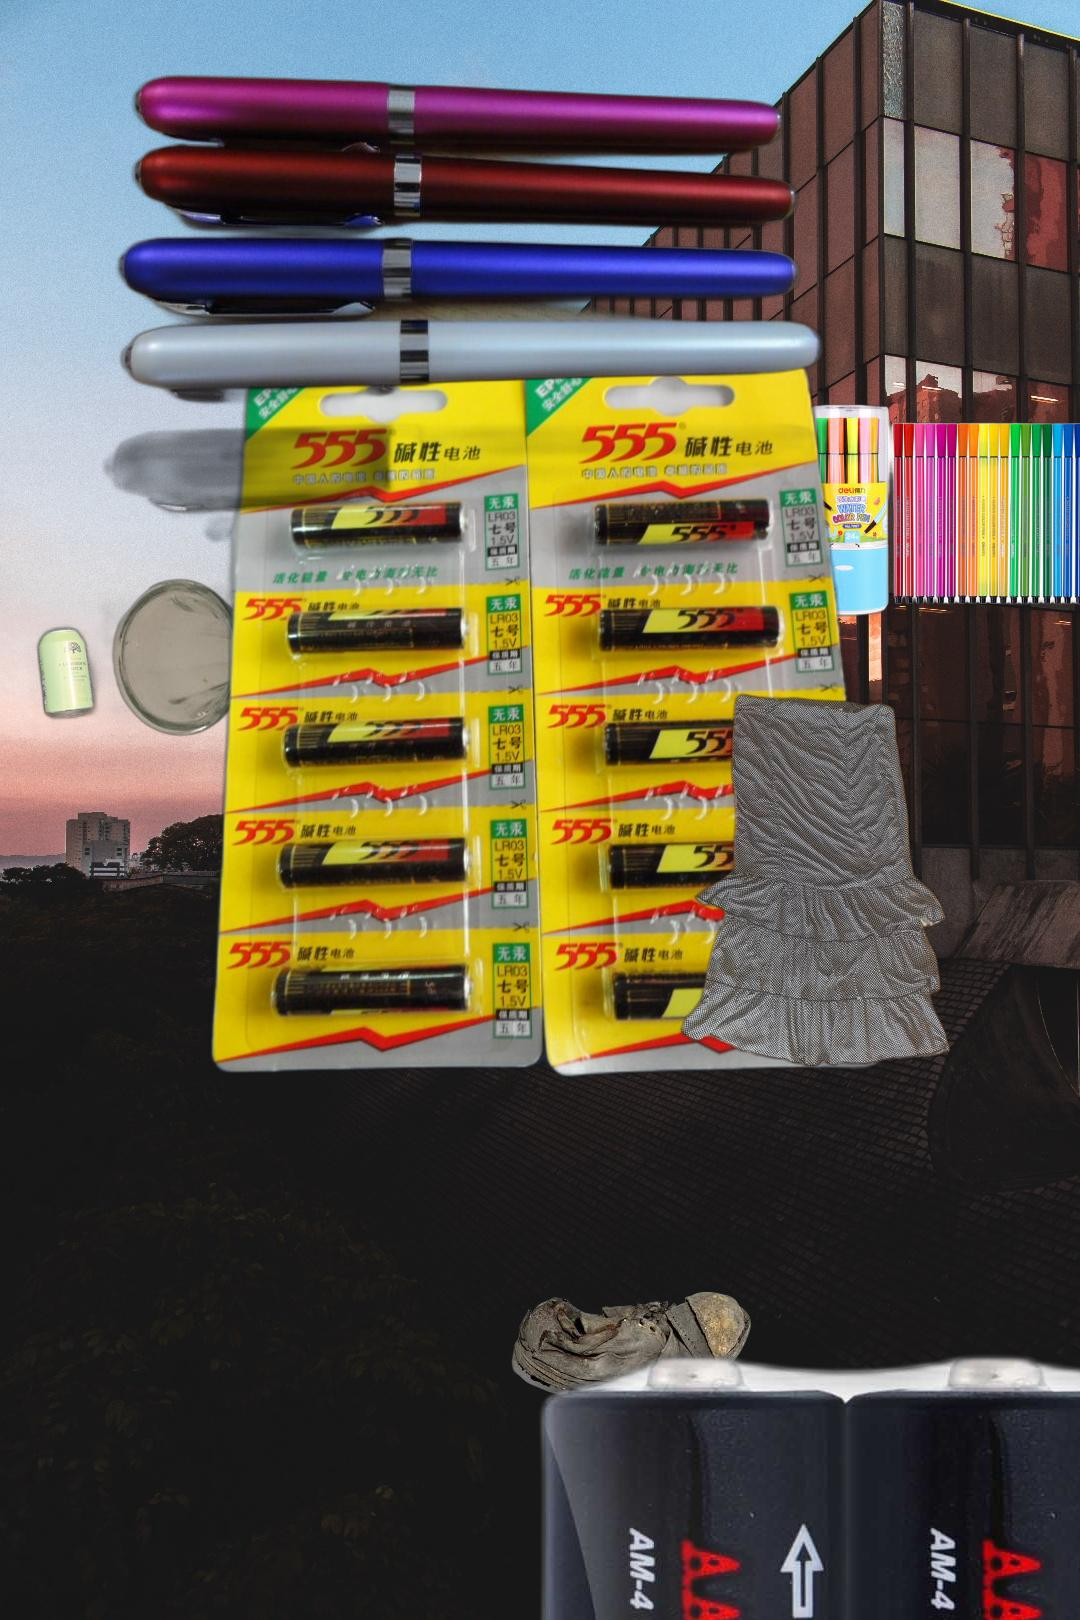battery: (200, 352, 896, 1082), (523, 1339, 1080, 1620)
clothes: (677, 691, 953, 1072)
glass: (108, 576, 352, 739)
metal-cans: (25, 592, 162, 733)
penholder: (100, 71, 843, 522), (808, 401, 1080, 618)
shoes: (510, 1289, 755, 1411)
